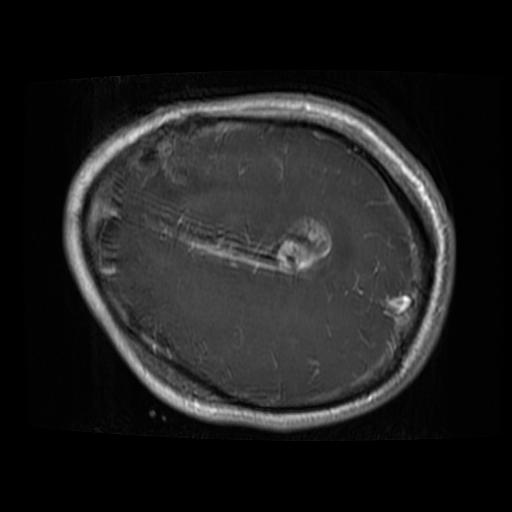glioma: (272, 213, 333, 274)
